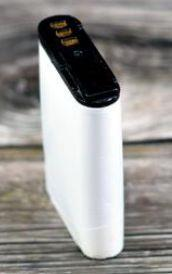battery: (33, 9, 131, 263)
